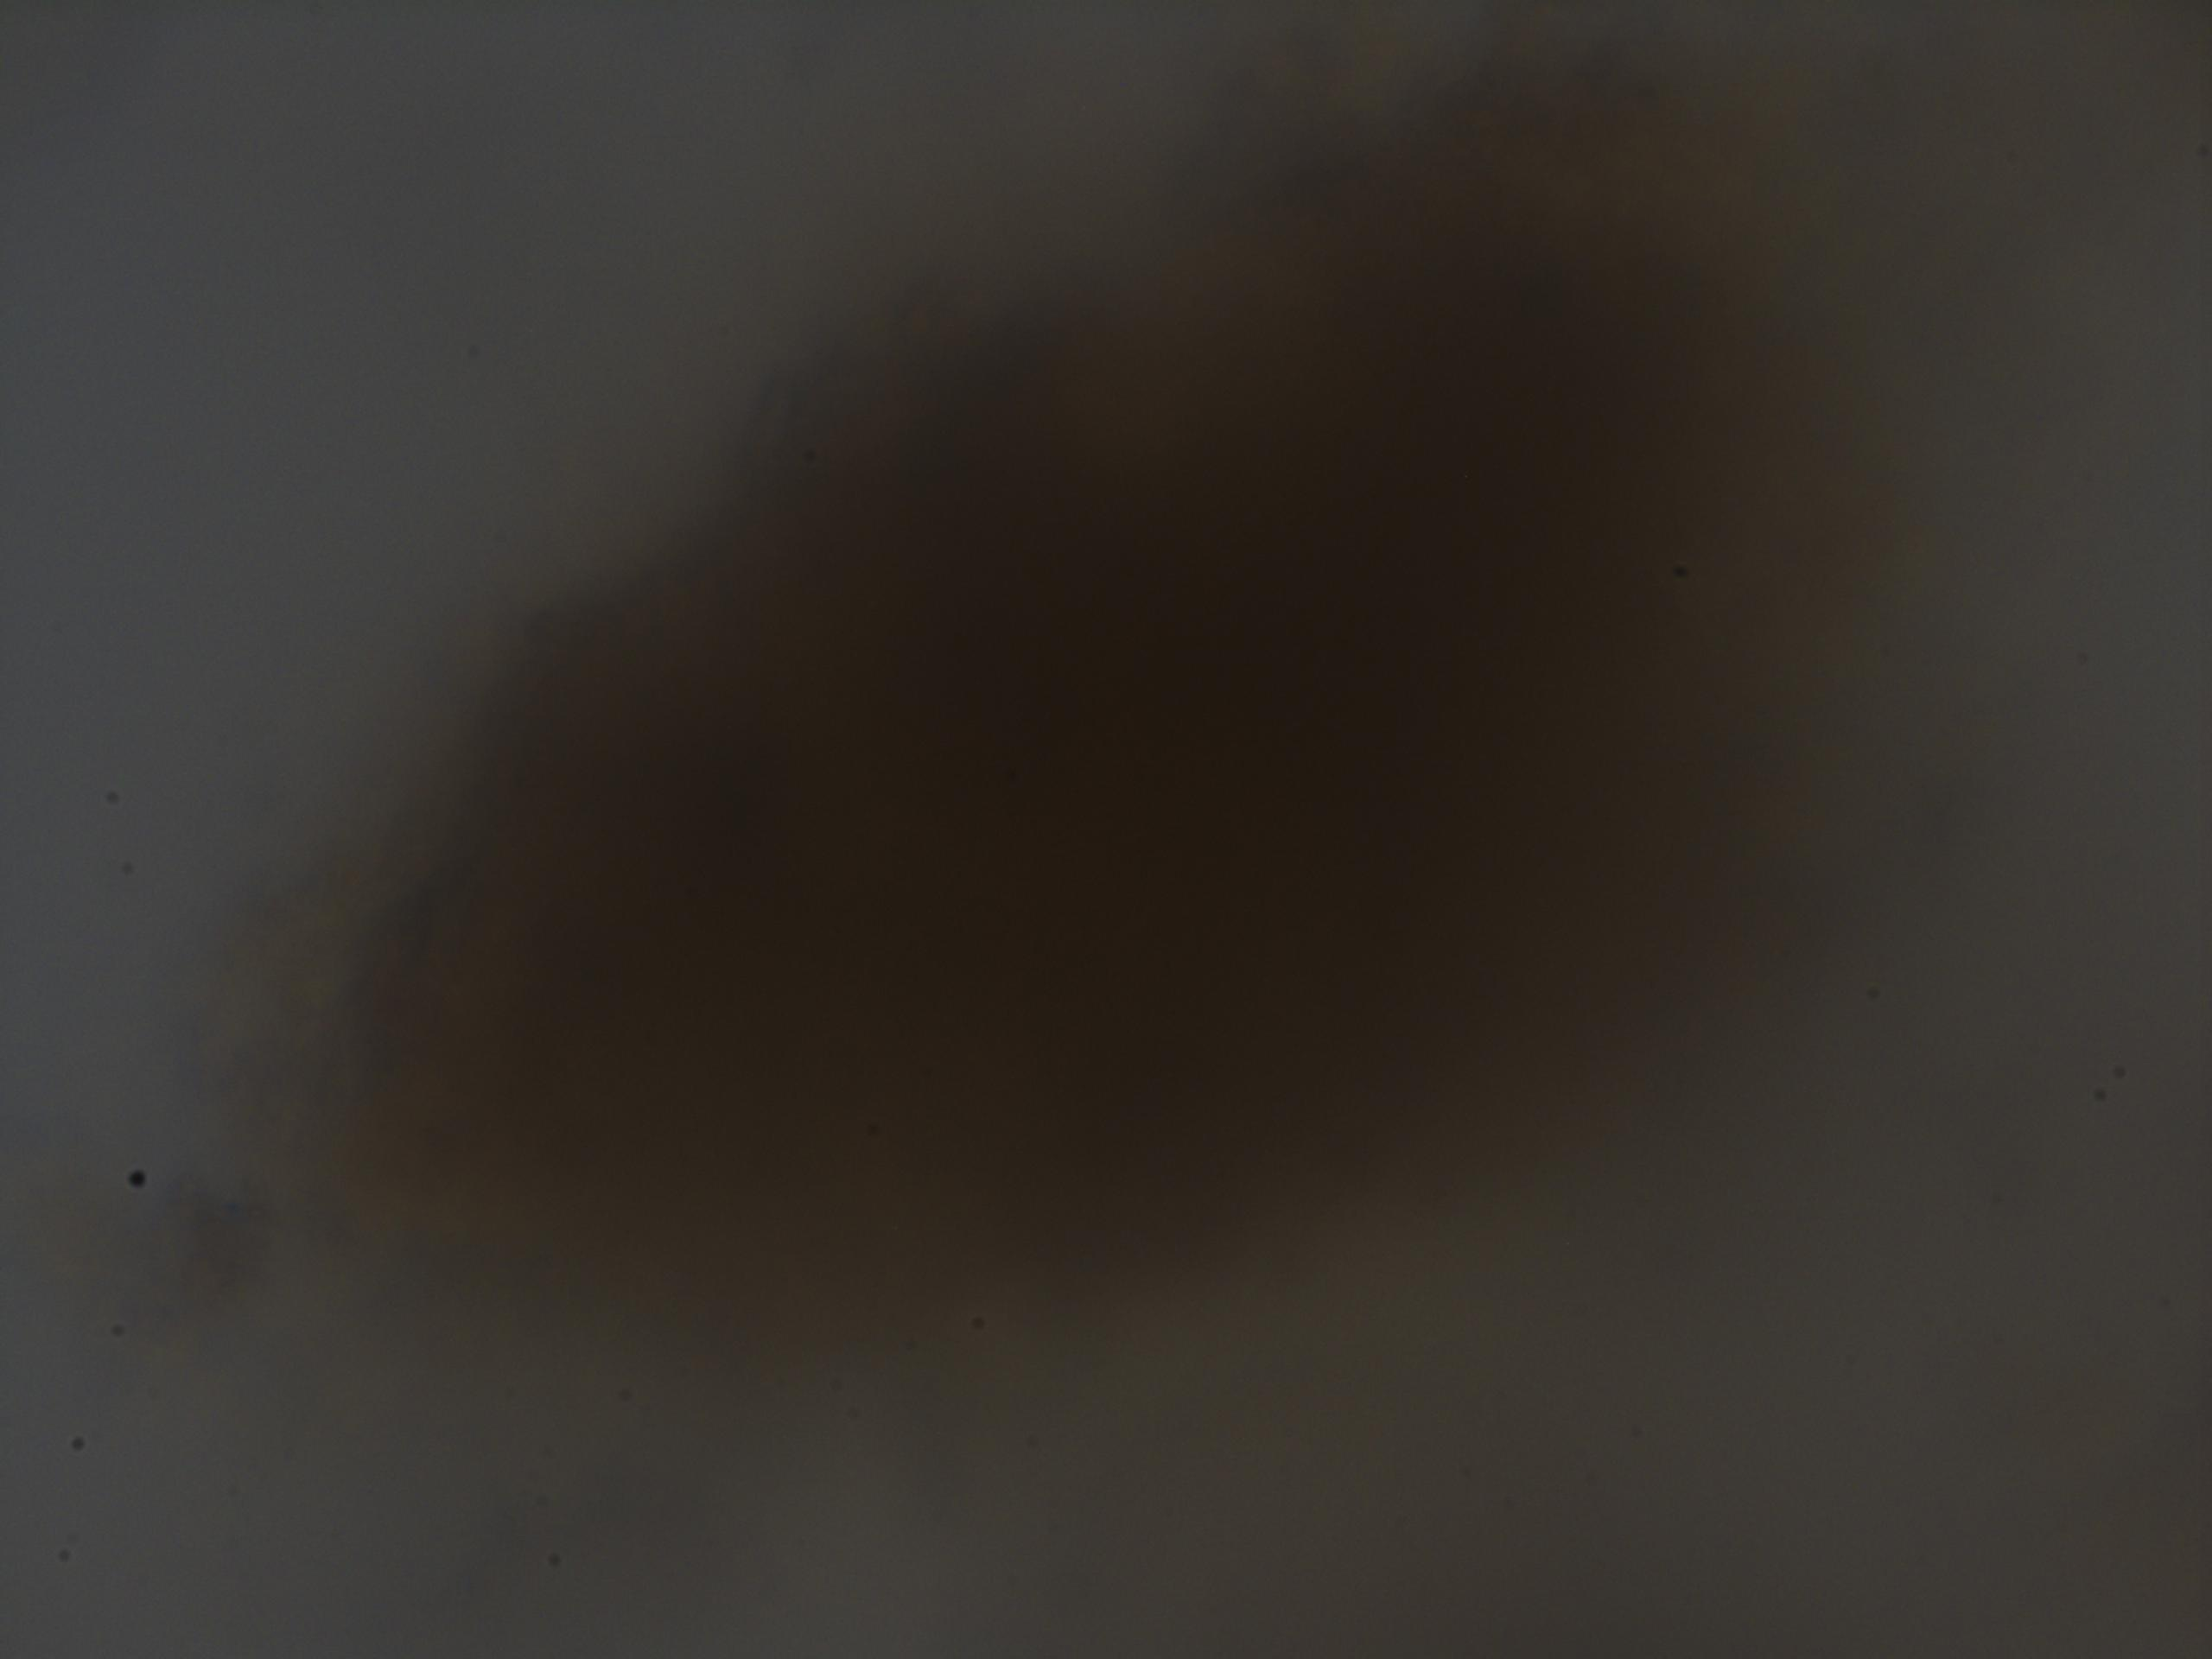spherical_floc: (296, 49, 1851, 1349)
